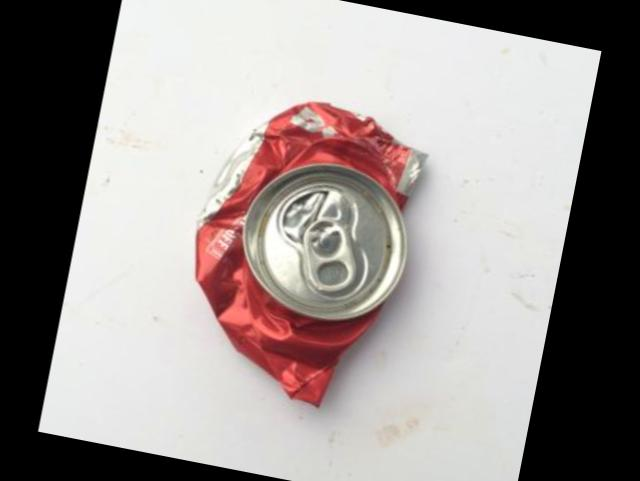metal: (198, 100, 424, 402)
